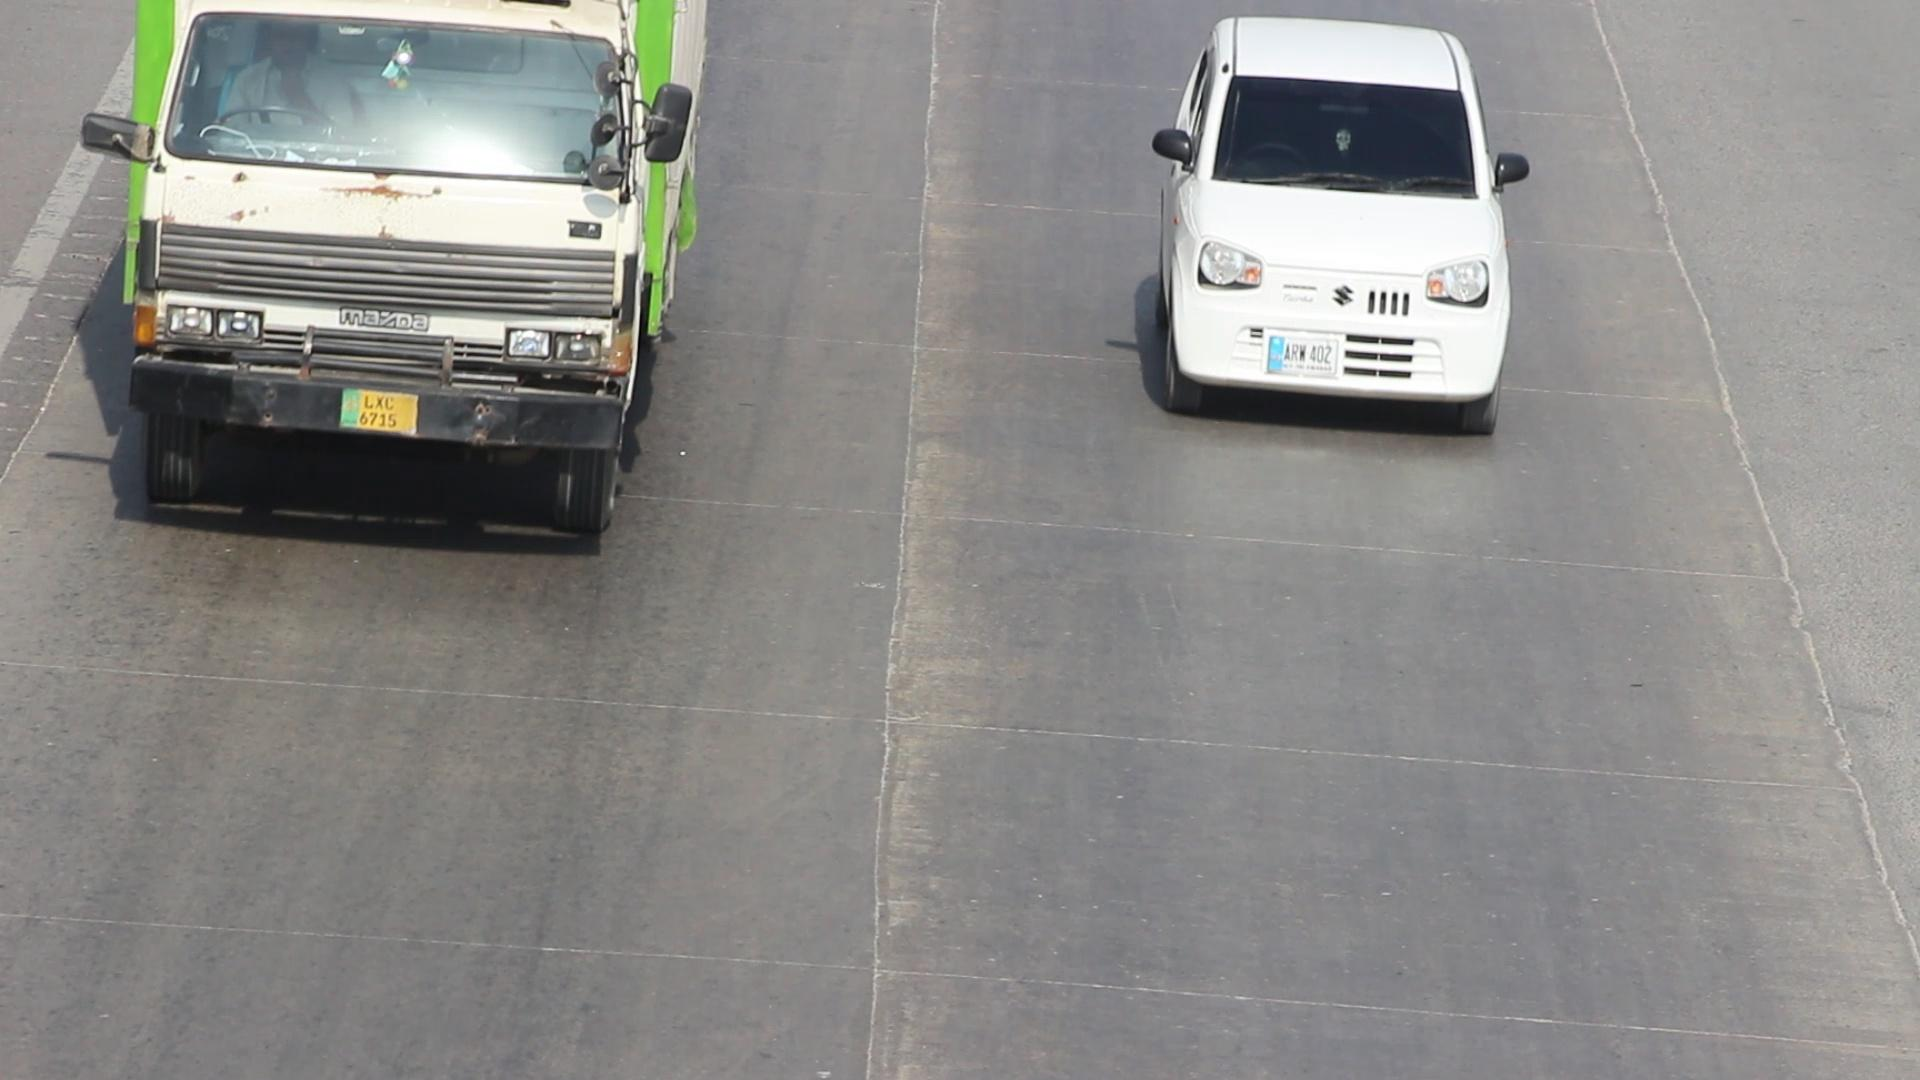windshield: (154, 11, 632, 210), (1204, 50, 1494, 216)
